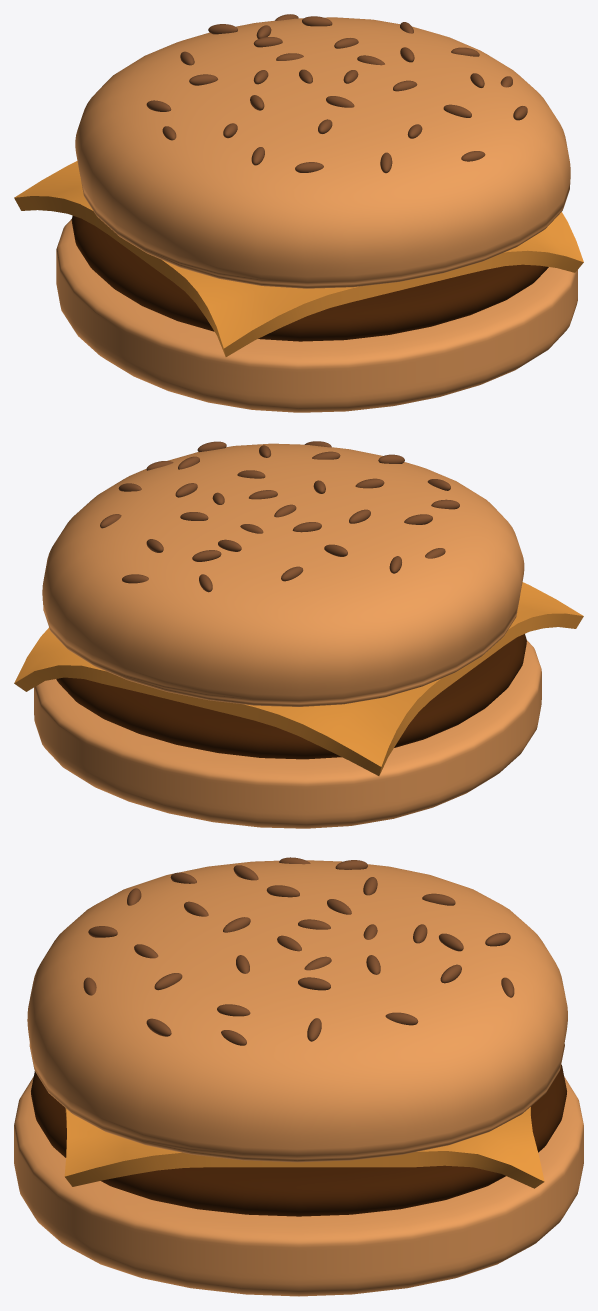
Rendered from hambuguer.glb.
The picture shows the model from 3 angles, top to bottom: view 1: azimuth 30°, elevation 25°; view 2: azimuth 150°, elevation 25°; view 3: azimuth 270°, elevation 25°; orthographic projection. The views are drawn at different scales.
Parts seen in each view (by area): view 1: Object.002, Object, Object.001, Plane; view 2: Object.002, Object, Plane, Object.001; view 3: Object.002, Object, Object.001, Plane.
Boxes of the visible parts, x1=… form: Object.002: x1=75, y1=17, x2=570, y2=288; Object: x1=56, y1=219, x2=577, y2=412; Object.001: x1=71, y1=216, x2=548, y2=341; Plane: x1=14, y1=161, x2=583, y2=356; Object.002: x1=42, y1=443, x2=524, y2=706; Object: x1=34, y1=640, x2=541, y2=828; Plane: x1=14, y1=582, x2=583, y2=775; Object.001: x1=56, y1=634, x2=526, y2=759; Object.002: x1=27, y1=860, x2=567, y2=1162; Object: x1=14, y1=1076, x2=583, y2=1296; Object.001: x1=31, y1=1064, x2=566, y2=1216; Plane: x1=64, y1=1107, x2=544, y2=1188.
Size of the model in its own units: 1.83 by 1 by 1.83.
